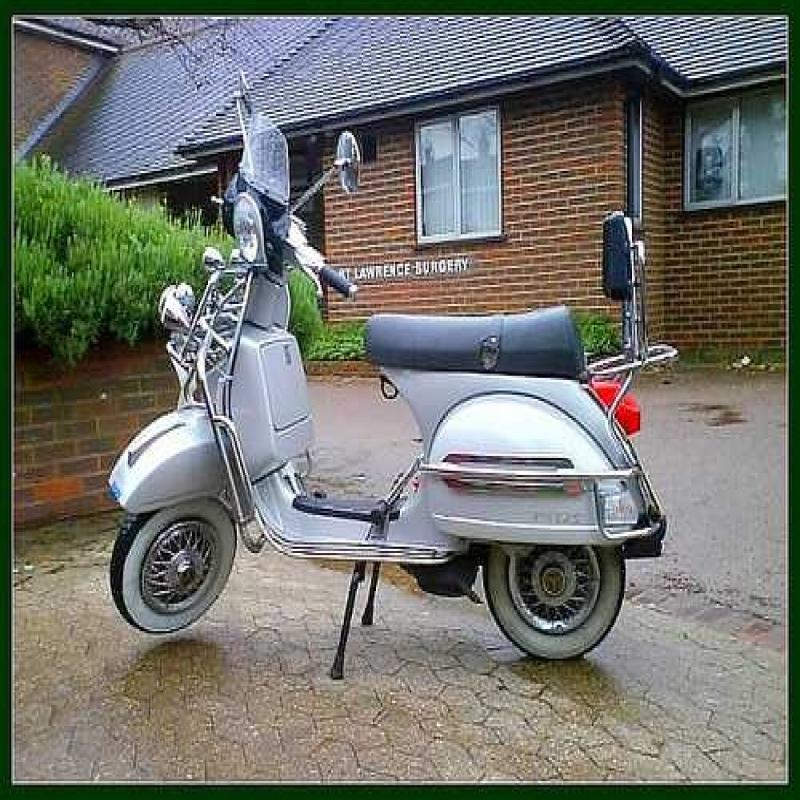bike: (98, 169, 679, 657)
